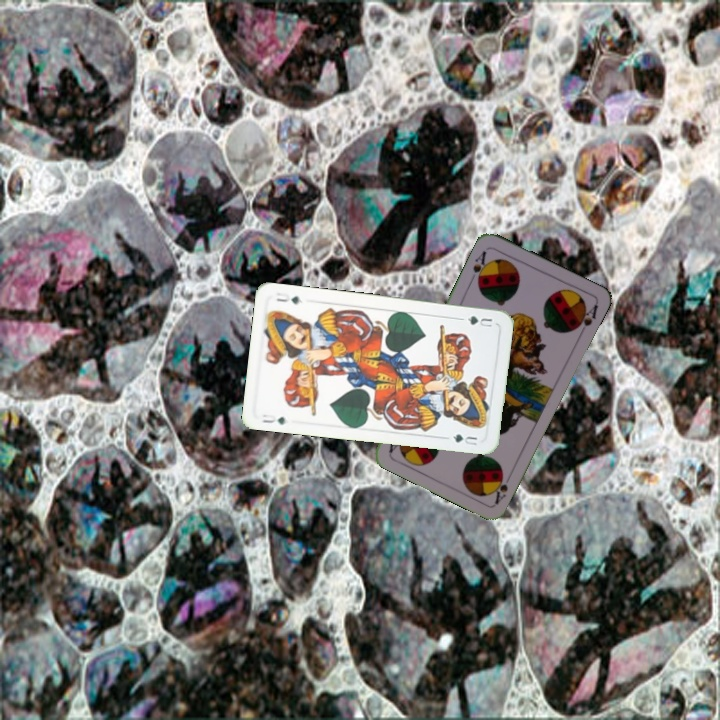GU: (463, 312, 495, 330), (258, 410, 288, 427)
SA: (490, 468, 515, 506), (469, 246, 492, 286)
